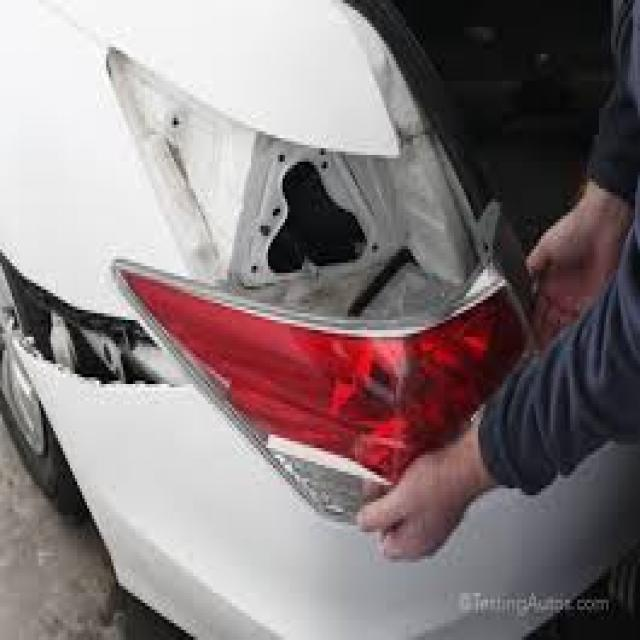damaged-tail-light: (100, 46, 474, 331)
